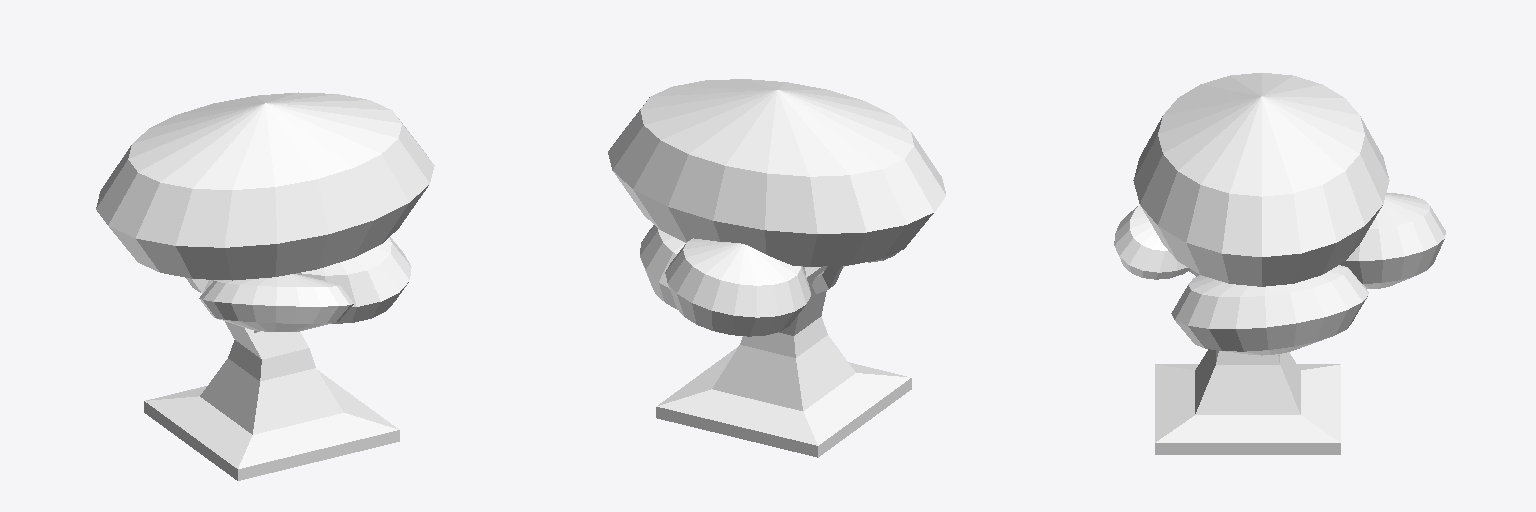
Rendered from tree.obj.
3 views of the same model, side by side, from view 1: azimuth 30°, elevation 25°; view 2: azimuth 150°, elevation 25°; view 3: azimuth 270°, elevation 25° (orthographic).
Visible parts, largest first — view 1: pSphere5; view 2: pSphere5; view 3: pSphere5.
Boxes of the visible parts, box(x1,y1,x2,y2) form: pSphere5: box(96, 92, 434, 480); pSphere5: box(608, 79, 945, 457); pSphere5: box(1114, 73, 1445, 454).
Bounding box in the file's own units: 9.44 × 9.15 × 8.62.